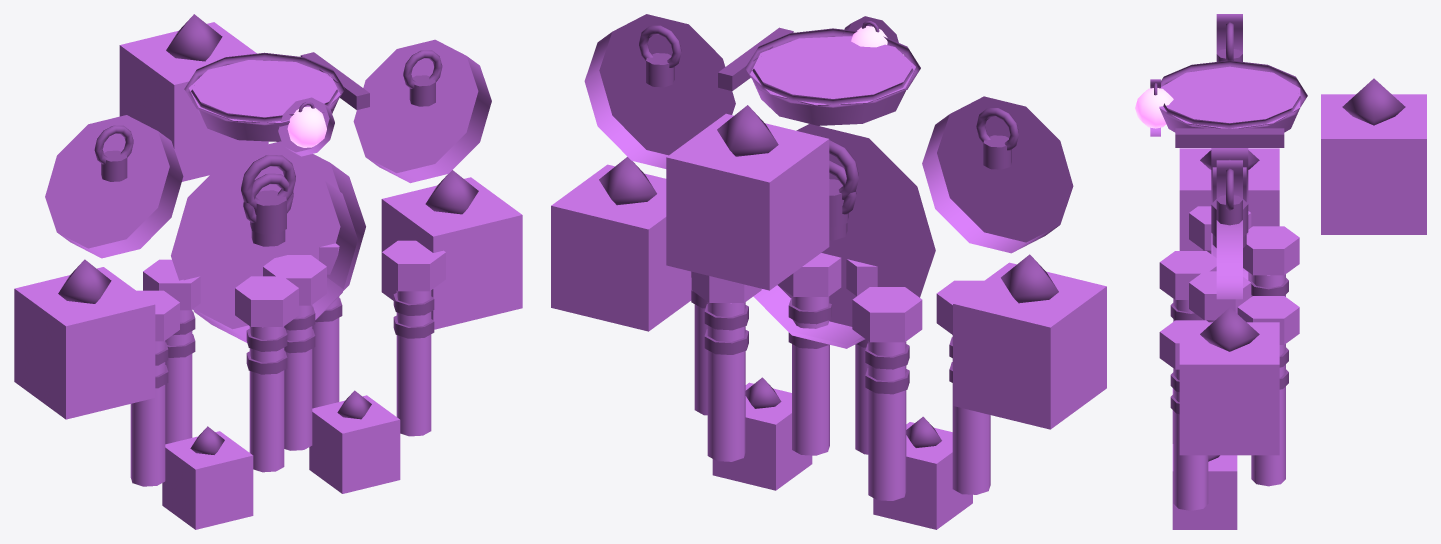
File: golem_013.glb
The picture shows the model from 3 angles, left to right: view 1: azimuth 30°, elevation 25°; view 2: azimuth 150°, elevation 25°; view 3: azimuth 270°, elevation 25°; orthographic projection. The views are drawn at different scales.
Parts seen in each view (by area): view 1: Body, Detail, Glow; view 2: Body, Detail; view 3: Body, Detail, Glow.
Part boxes in pixels (bbox=[...]): Body: bbox=[14, 22, 522, 529]; Detail: bbox=[58, 14, 478, 454]; Glow: bbox=[287, 106, 326, 147]; Body: bbox=[551, 14, 1106, 529]; Detail: bbox=[599, 21, 1058, 447]; Body: bbox=[1150, 14, 1426, 529]; Detail: bbox=[1154, 22, 1405, 461]; Glow: bbox=[1135, 88, 1173, 128].
Bounding box in the file's own units: 1.17 × 1.02 × 0.6661.
